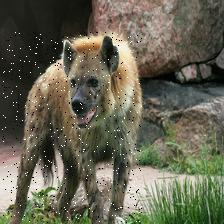hyena: (2, 32, 141, 224)
